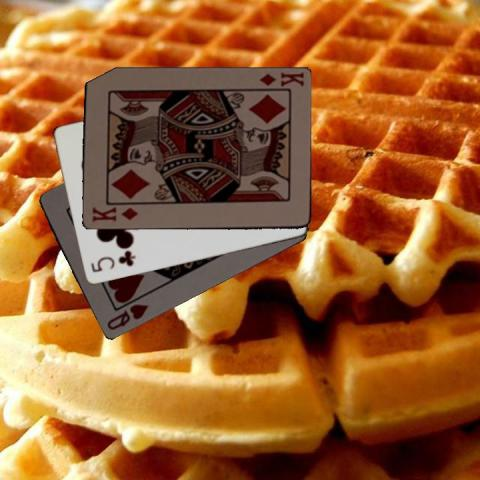5c: (87, 249, 137, 274)
Kd: (250, 70, 305, 92), (90, 204, 140, 224)
Qh: (103, 301, 150, 332)
